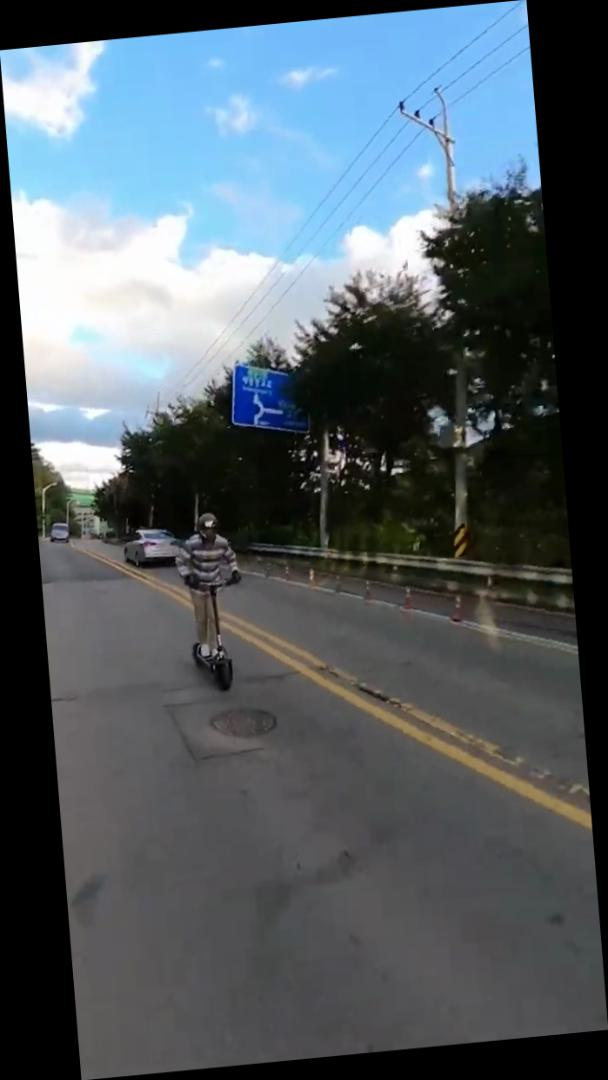helmet: (174, 506, 253, 698)
